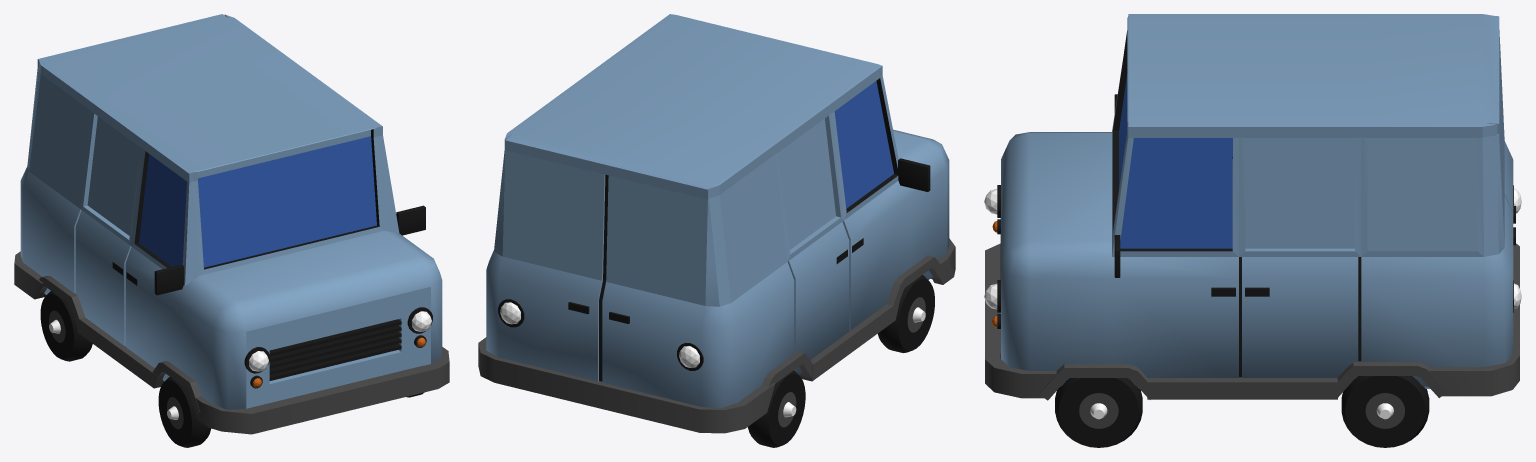
File: akcsFuPMt3b.glb
The picture shows the model from 3 angles, left to right: view 1: azimuth 30°, elevation 25°; view 2: azimuth 150°, elevation 25°; view 3: azimuth 270°, elevation 25°; orthographic projection. The views are drawn at different scales.
Visible parts, largest first — view 1: ChamferBox001; view 2: ChamferBox001; view 3: ChamferBox001.
Part boxes in pixels (bbox=[...]): ChamferBox001: bbox=[14, 14, 449, 447]; ChamferBox001: bbox=[478, 14, 955, 447]; ChamferBox001: bbox=[984, 14, 1521, 447].
Bounding box in the file's own units: 1.08 × 1 × 1.56.
